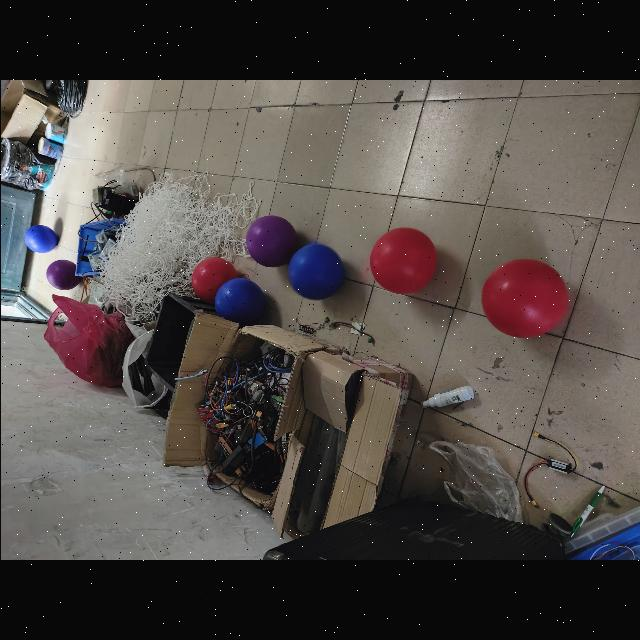B: (286, 241, 346, 301), (210, 276, 264, 322), (23, 224, 58, 253)
P: (243, 213, 299, 267), (45, 258, 77, 288)
R: (478, 256, 572, 342), (370, 226, 440, 294), (190, 256, 240, 310)
